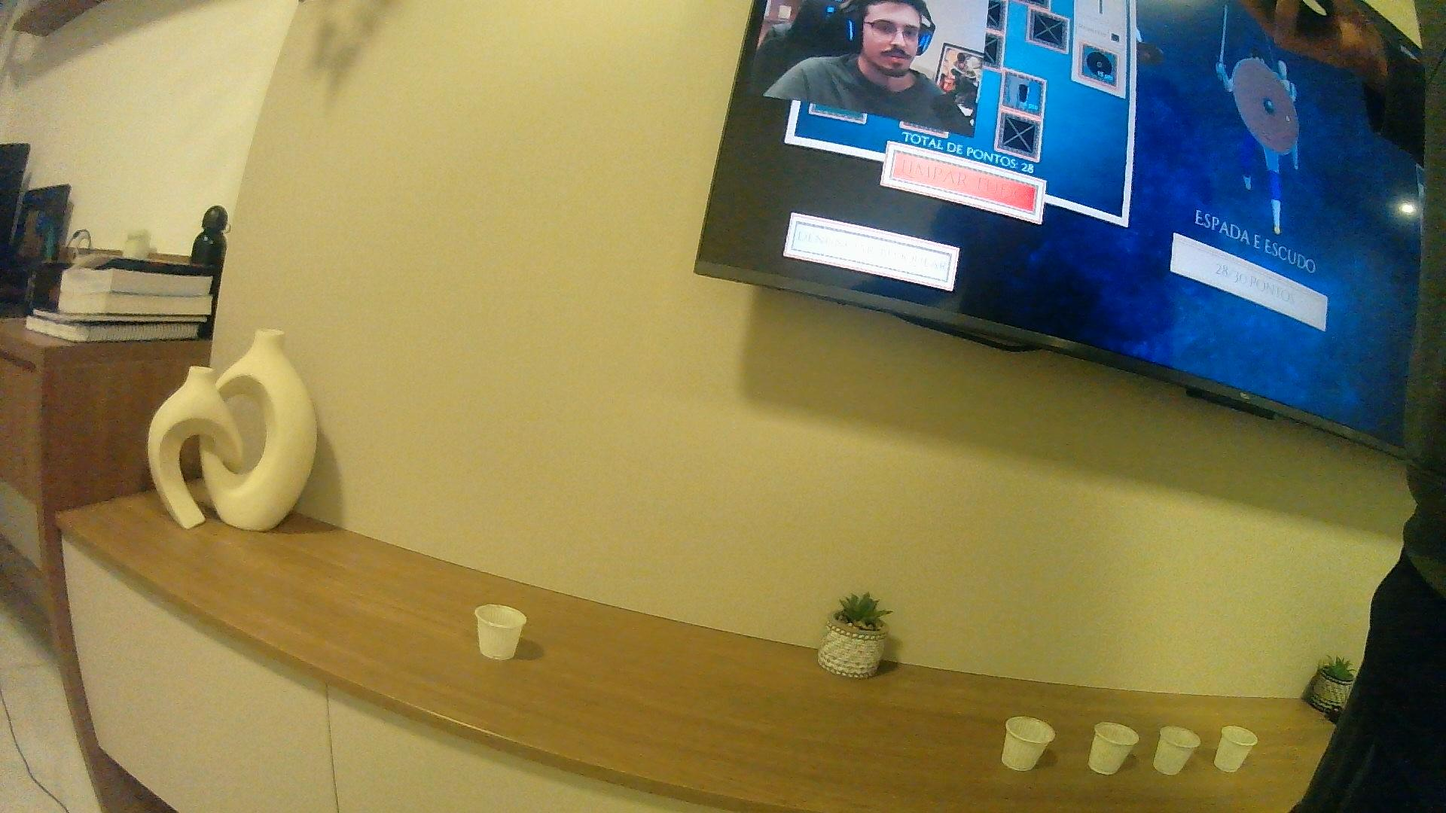planta: (999, 711, 1056, 777), (474, 599, 527, 662), (1088, 718, 1137, 778), (1151, 721, 1200, 780), (1217, 721, 1255, 780)
